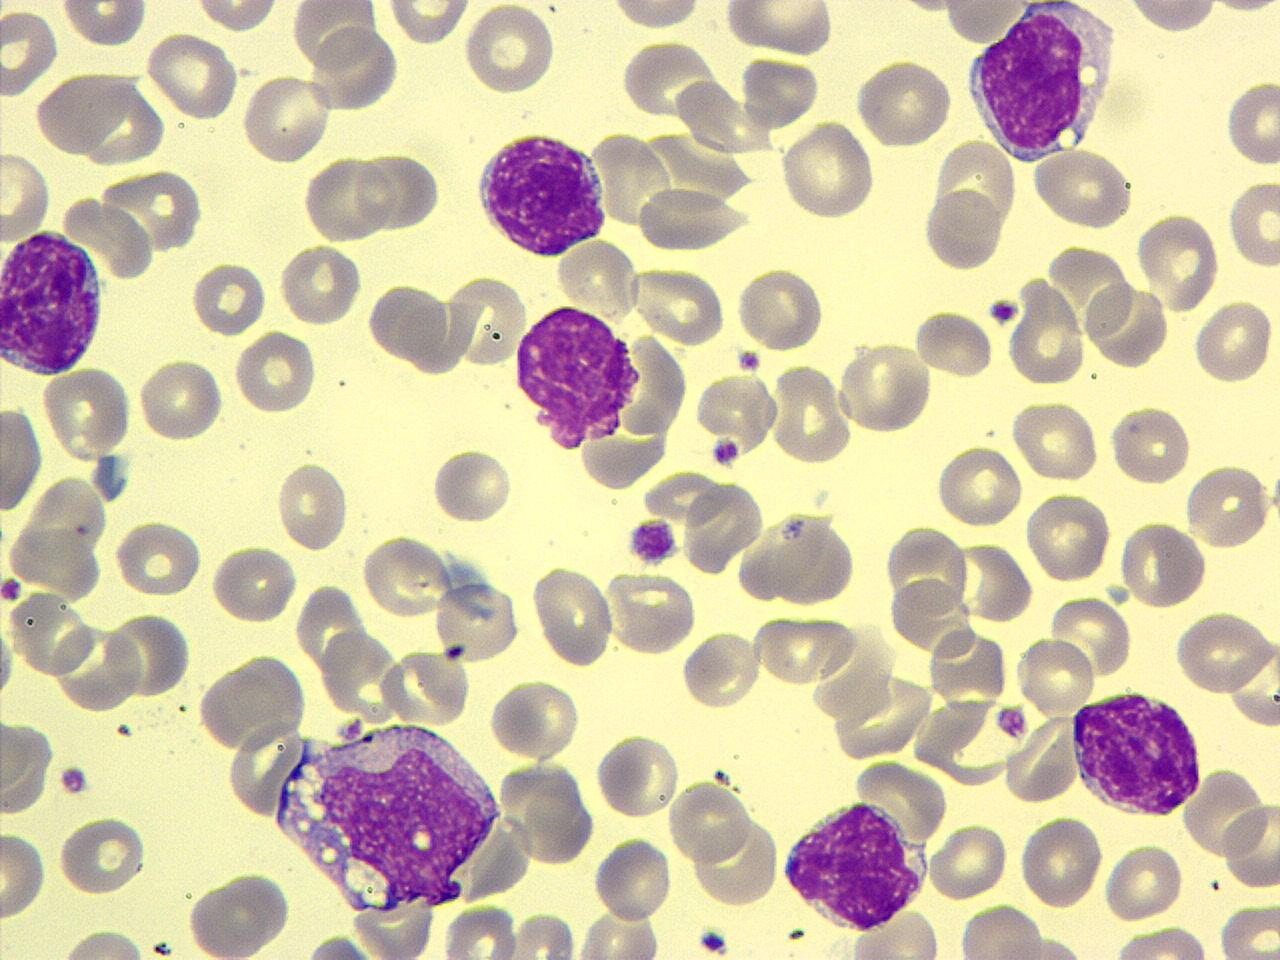Platelets: (624, 518, 680, 567), (708, 435, 742, 469), (696, 926, 730, 957), (987, 296, 1020, 326)
RBC: (738, 508, 858, 610), (195, 650, 310, 754), (497, 756, 597, 866), (30, 68, 148, 158), (779, 118, 878, 224), (185, 868, 295, 959), (852, 55, 954, 149), (834, 341, 934, 436), (100, 166, 205, 257), (1006, 275, 1089, 389), (239, 71, 336, 167), (40, 364, 133, 465), (462, 3, 560, 96), (882, 520, 972, 622), (530, 562, 616, 668), (1016, 810, 1105, 912), (1028, 146, 1136, 230), (143, 30, 241, 122), (1182, 762, 1270, 864), (770, 360, 852, 467), (1136, 210, 1222, 312), (852, 757, 950, 845), (680, 477, 766, 578), (443, 271, 529, 371), (488, 675, 584, 763), (1173, 608, 1273, 693), (307, 23, 400, 114), (1024, 488, 1112, 584), (52, 620, 142, 712), (303, 153, 393, 244), (361, 532, 452, 622), (736, 263, 826, 353), (1118, 518, 1208, 608), (934, 441, 1024, 531), (136, 354, 225, 446), (1010, 396, 1102, 485), (1184, 459, 1274, 549), (604, 569, 696, 655), (632, 262, 728, 346), (595, 728, 681, 820), (636, 184, 750, 253), (752, 612, 859, 686), (234, 326, 318, 418), (432, 577, 522, 664), (57, 812, 148, 897), (1191, 295, 1275, 388), (1047, 592, 1135, 680), (666, 776, 754, 864), (210, 542, 300, 626), (355, 147, 442, 234), (1083, 281, 1169, 370), (592, 834, 674, 926), (107, 609, 191, 698), (1108, 401, 1194, 487), (692, 367, 780, 452), (113, 517, 205, 598), (953, 536, 1035, 626), (274, 457, 350, 554), (1101, 840, 1187, 924), (280, 240, 363, 328), (923, 184, 1004, 272), (553, 235, 641, 316), (1014, 634, 1096, 720), (430, 444, 512, 526), (367, 279, 447, 363), (681, 628, 762, 712), (927, 820, 1009, 901), (721, 1, 835, 56), (191, 258, 269, 339), (912, 306, 993, 379), (1221, 798, 1280, 892), (954, 903, 1050, 959), (1, 7, 60, 98), (0, 402, 46, 518), (1224, 76, 1280, 168), (0, 149, 54, 244), (848, 907, 944, 959), (1226, 637, 1280, 730), (1227, 178, 1279, 272), (0, 826, 49, 924), (572, 908, 662, 960), (440, 902, 518, 960), (58, 0, 150, 49), (382, 0, 473, 48), (1105, 922, 1215, 958), (1218, 899, 1280, 960), (52, 924, 156, 960), (1124, 0, 1222, 36), (190, 0, 286, 35), (606, 0, 703, 34), (298, 931, 383, 960), (0, 716, 29, 794)
WBC: (266, 714, 512, 908), (961, 1, 1121, 165), (508, 301, 664, 450), (776, 794, 932, 936), (1067, 682, 1211, 819), (470, 123, 612, 261), (0, 224, 111, 380)
